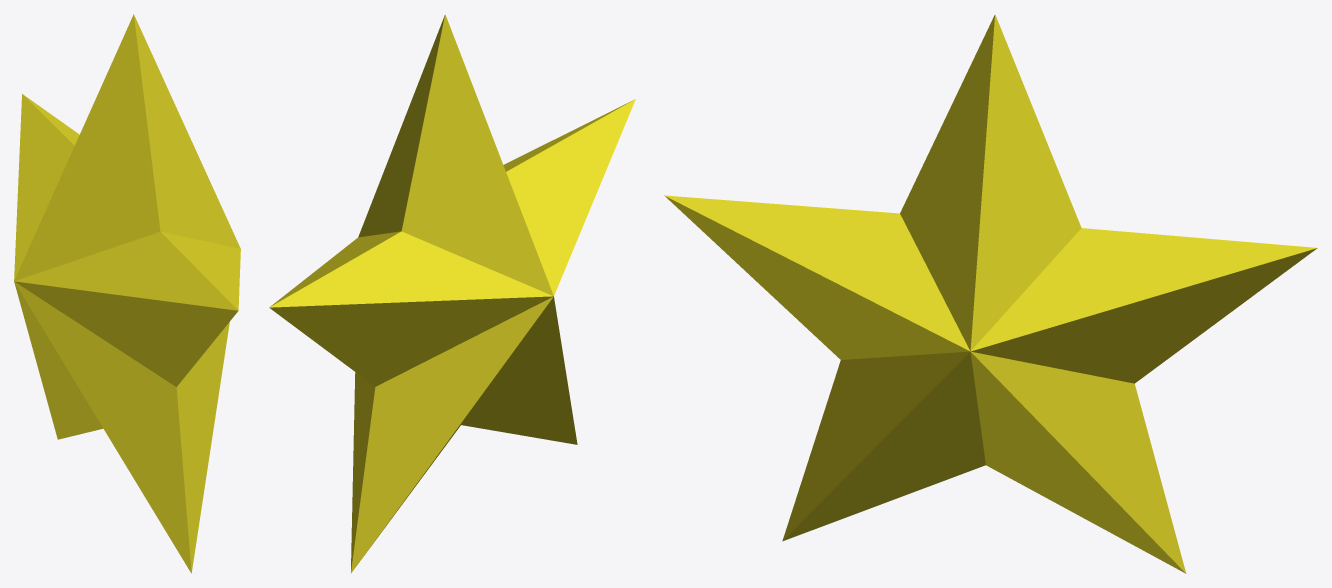
Rendered from star.glb.
3 renders of one model, left to right at view 1: azimuth 30°, elevation 25°; view 2: azimuth 150°, elevation 25°; view 3: azimuth 270°, elevation 25°, orthographic. The views are drawn at different scales.
Parts seen in each view (by area): view 1: star; view 2: star; view 3: star.
Boxes of the visible parts, x1,y1,x2,y2 form: star: (14, 14, 240, 573); star: (269, 14, 635, 573); star: (664, 14, 1317, 573).
Size of the model in its own units: 1.93 by 4.32 by 4.61.
